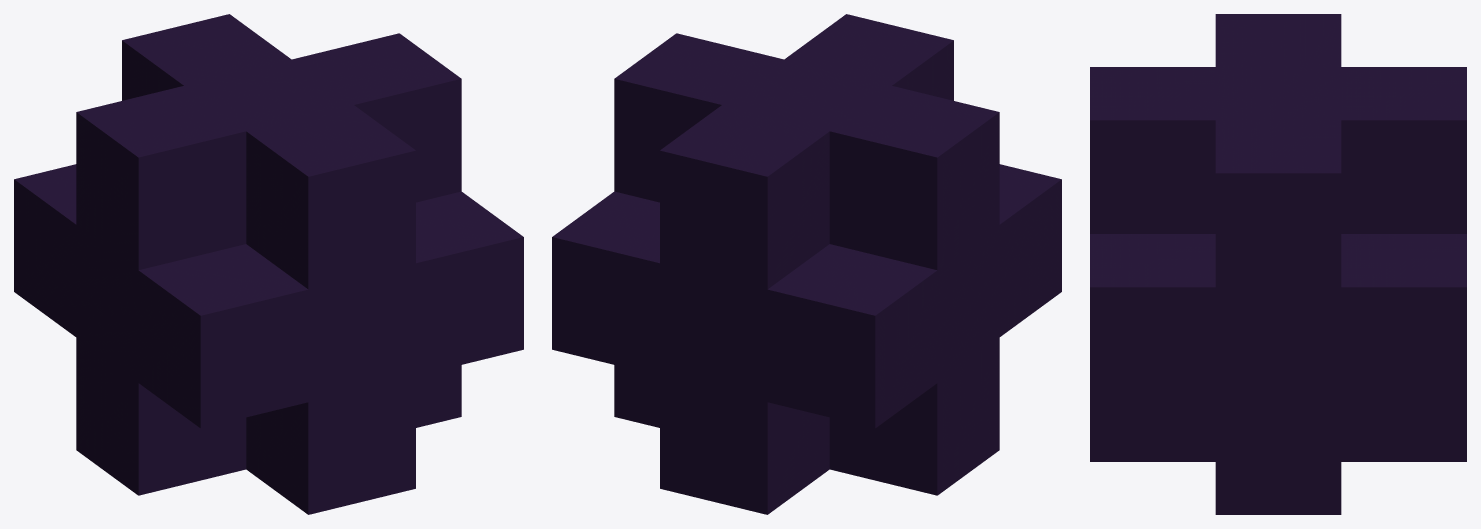
The model's file is smokeBomb.obj.
3 renders of one model, left to right at view 1: azimuth 30°, elevation 25°; view 2: azimuth 150°, elevation 25°; view 3: azimuth 270°, elevation 25°, orthographic.
Size of the model in its own units: 3 by 3 by 3.
1 material, 1 textured.
